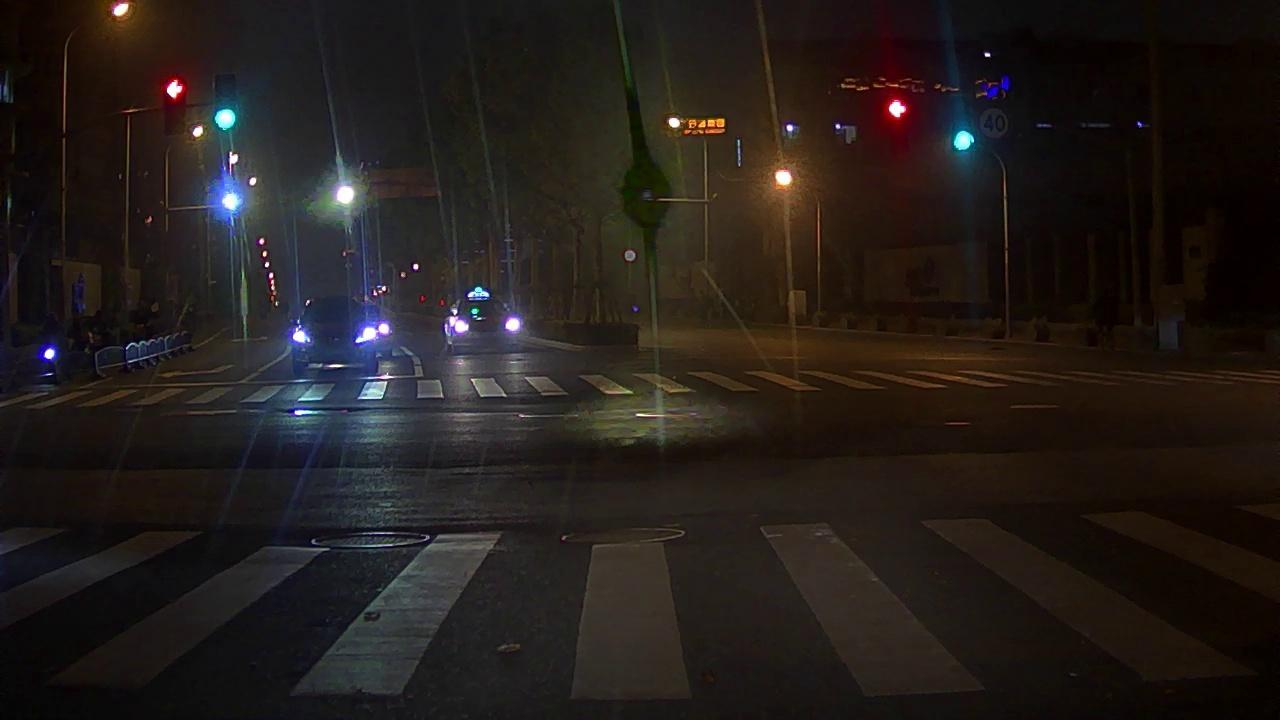traffic_light: (952, 99, 972, 152), (218, 76, 236, 130), (164, 82, 181, 130), (890, 97, 905, 119)
